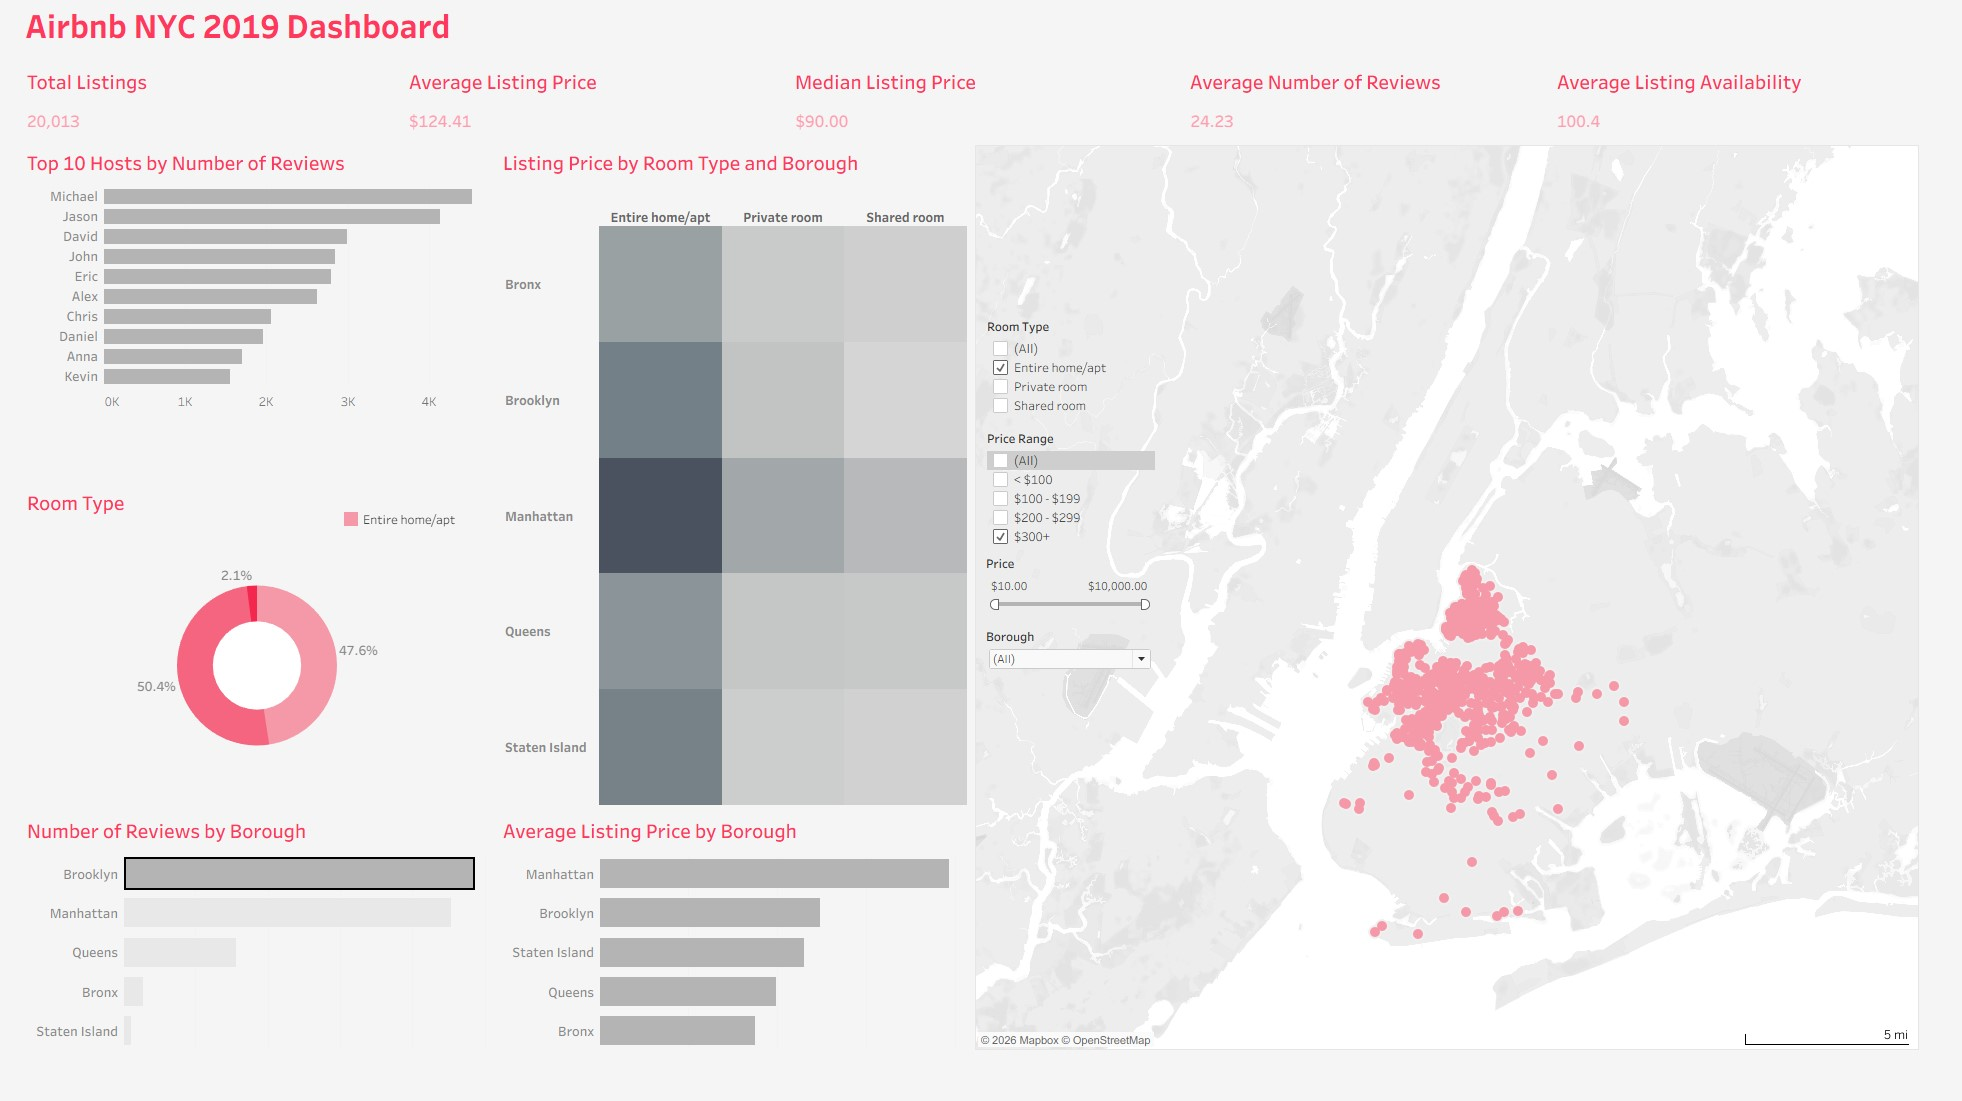

Layout of this report page (visuals, bound fields, positions):
{"tool":"tableau","page":{"name":"Dashboard 1","canvas":[1920,1080],"ordinal":0},"visuals":[{"type":"text","box":[8,8,1904,70]},{"type":"worksheet","title":"KPItotallistings","mark":"Automatic","box":[8,78,382,81.3]},{"type":"worksheet","title":"KPIavgprice","mark":"Automatic","box":[390,78,386,81.3]},{"type":"worksheet","title":"KPImedprice","mark":"Automatic","box":[776,78,395,81.3]},{"type":"worksheet","title":"KPIavgreviews","mark":"Automatic","box":[1171,78,367,81.3]},{"type":"worksheet","title":"KPIavgavailability","mark":"Automatic","box":[1538,78,374,81.3]},{"type":"worksheet","title":"Barhostsbyreviews","mark":"Automatic","rows":["host_name"],"cols":["number_of_reviews"],"box":[8,159.3,475.9,339.7]},{"type":"worksheet","title":"Heatmaptypebyborough","mark":"Automatic","rows":["neighbourhood_group"],"cols":["room_type"],"box":[484,159.3,476,668]},{"type":"worksheet","title":"Maplistings","mark":"Circle","rows":["latitude"],"cols":["longitude"],"box":[960,159.3,952,912.7]},{"type":"filter","title":"Maplistings","param":"[federated.145yd0z09dek1p122aieh1rym9jb].[none:room_type:nk]","box":[976,336,168,108]},{"type":"filter","title":"Maplistings","param":"[federated.145yd0z09dek1p122aieh1rym9jb].[none:Calculation_22804734207377409:nk]","box":[976,448,168,119]},{"type":"worksheet","title":"Donutroomtype","mark":"Pie","rows":["Calculation_0862293583007744","Calculation_0862293583007744"],"box":[8,499,475.9,328.2]},{"type":"legend","title":"Maplistings","param":"[federated.145yd0z09dek1p122aieh1rym9jb].[none:room_type:nk]","box":[330,509,140,82]},{"type":"filter","title":"Maplistings","param":"[federated.145yd0z09dek1p122aieh1rym9jb].[none:price:qk]","box":[975,573,168,69]},{"type":"filter","title":"Maplistings","param":"[federated.145yd0z09dek1p122aieh1rym9jb].[none:neighbourhood_group:nk]","box":[975,646,168,52]},{"type":"worksheet","title":"Barreviewsbyborough","mark":"Automatic","rows":["neighbourhood_group"],"cols":["number_of_reviews"],"box":[8,827.2,475.9,244.8]},{"type":"worksheet","title":"Barpricebyborough","mark":"Automatic","rows":["neighbourhood_group"],"cols":["price"],"box":[484,827.2,476,244.8]}]}

Visuals, with their boxes in screenshot pixels (x1, y1, x2, y2), scaled from the page's 1920x1080 canvas onto the 1962x1101 screenshot:
text: Rect(8, 8, 1954, 80)
"KPItotallistings" worksheet: Rect(8, 80, 399, 162)
"KPIavgprice" worksheet: Rect(399, 80, 793, 162)
"KPImedprice" worksheet: Rect(793, 80, 1197, 162)
"KPIavgreviews" worksheet: Rect(1197, 80, 1572, 162)
"KPIavgavailability" worksheet: Rect(1572, 80, 1954, 162)
"Barhostsbyreviews" worksheet: Rect(8, 162, 494, 509)
"Heatmaptypebyborough" worksheet: Rect(495, 162, 981, 843)
"Maplistings" worksheet (Circle marks): Rect(981, 162, 1954, 1093)
"Maplistings" filter: Rect(997, 343, 1169, 453)
"Maplistings" filter: Rect(997, 457, 1169, 578)
"Donutroomtype" worksheet (Pie marks): Rect(8, 509, 494, 843)
"Maplistings" legend: Rect(337, 519, 480, 602)
"Maplistings" filter: Rect(996, 584, 1168, 654)
"Maplistings" filter: Rect(996, 659, 1168, 712)
"Barreviewsbyborough" worksheet: Rect(8, 843, 494, 1093)
"Barpricebyborough" worksheet: Rect(495, 843, 981, 1093)
